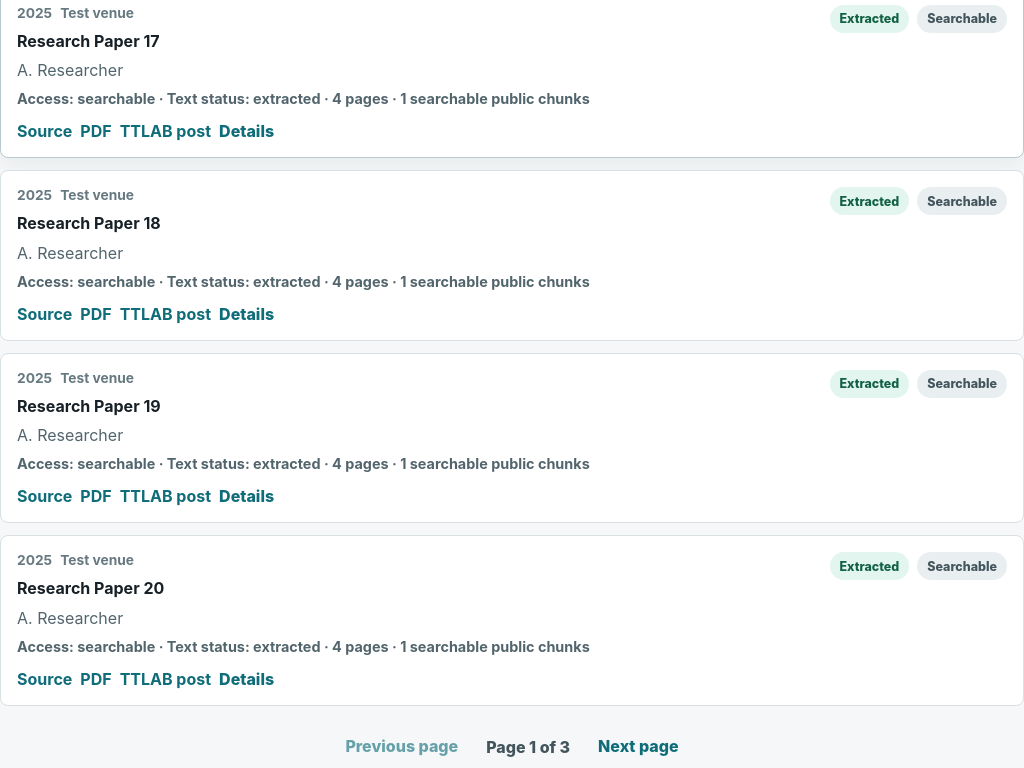
paper browser pagination › limits rendered cards, navigates pages, and resets after filtering
(page scrolled)
Expected: the text "Page 1 of 3" is shown, [486,737,570,757]
Expected: the heading "Research Paper 21" is not shown
Click the button "Next page" at (638, 747), box [582,726,695,767]
(page scrolled)
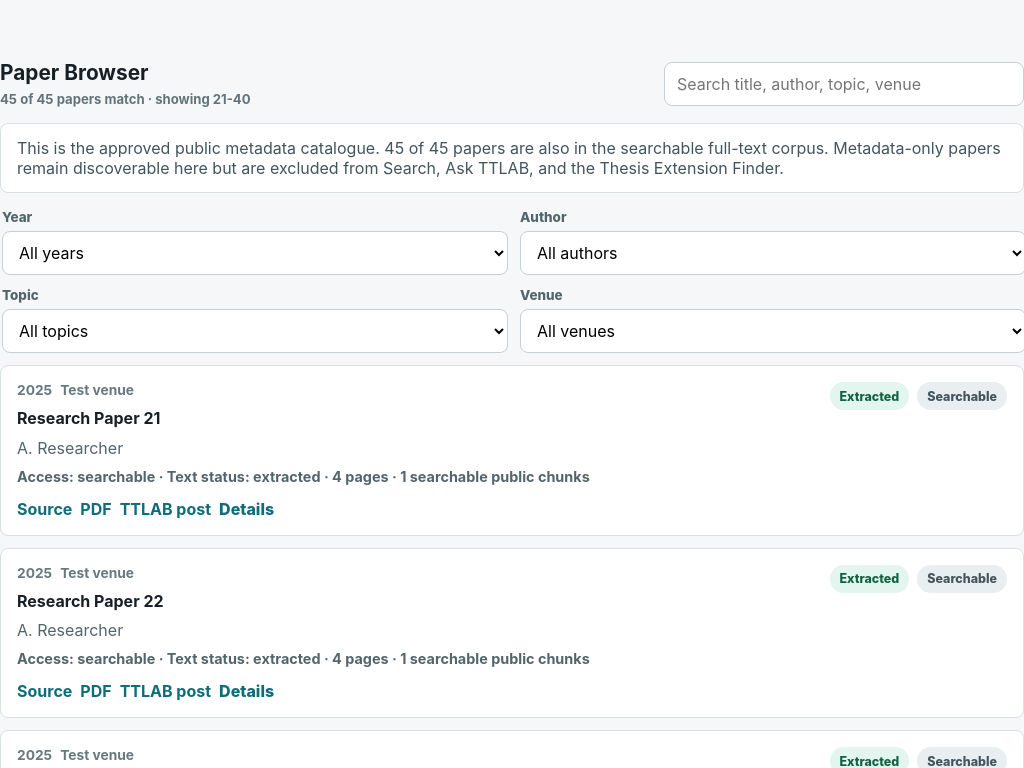
Expected: the heading "Research Paper 21" is shown, [17,408,160,428]
Type "Research Paper 45" into the field named "Search papers" at (844, 84), box [664,62,1023,106]
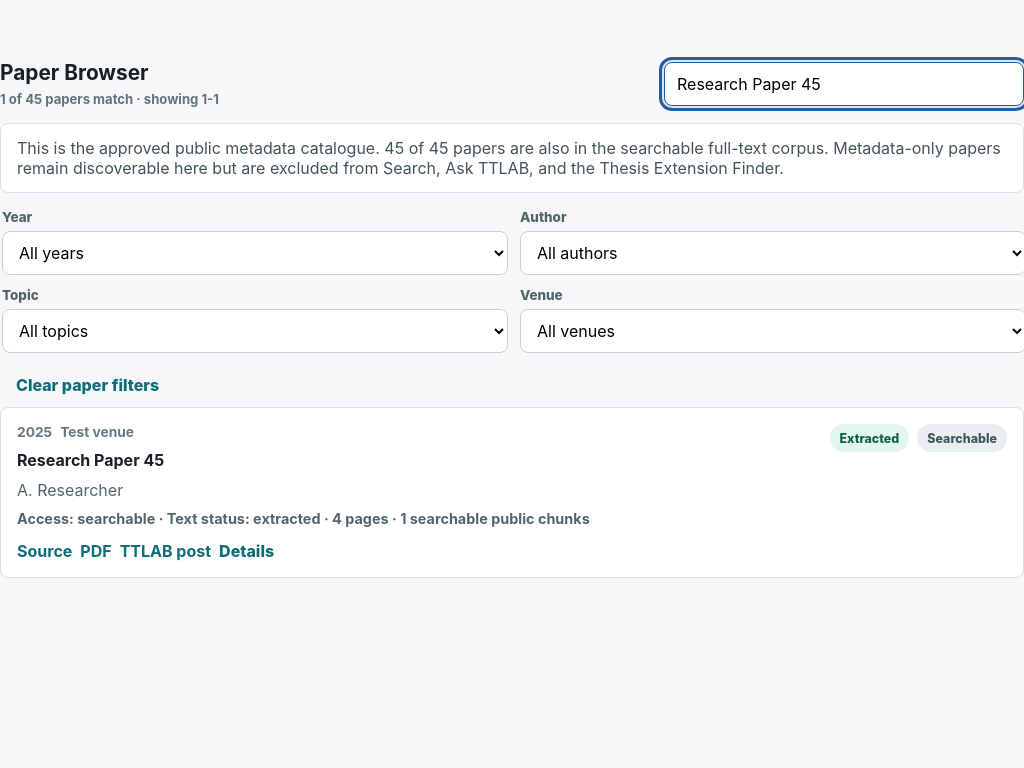
Expected: the heading "Research Paper 45" is shown, [17,450,164,470]
